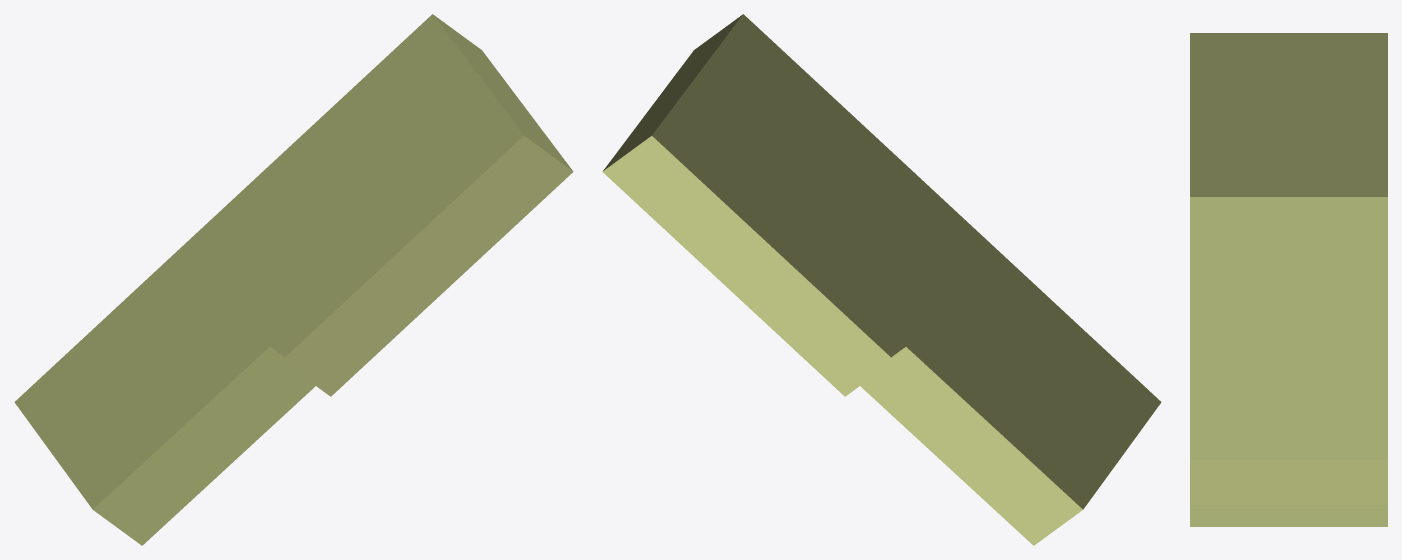
3 renders of one model, left to right at view 1: azimuth 30°, elevation 25°; view 2: azimuth 150°, elevation 25°; view 3: azimuth 270°, elevation 25°, orthographic. The views are drawn at different scales.
Visible parts, largest first — view 1: 0_1_0_2_1_2_3_2_1; view 2: 0_1_0_2_1_2_3_2_1; view 3: 0_1_0_2_1_2_3_2_1.
Boxes of the visible parts, left/top/right/bottom form: 0_1_0_2_1_2_3_2_1: left=14, top=14, right=573, bottom=545; 0_1_0_2_1_2_3_2_1: left=602, top=14, right=1161, bottom=545; 0_1_0_2_1_2_3_2_1: left=1190, top=33, right=1387, bottom=526.
Bounding box in the file's own units: 35.71 × 27.63 × 6.
